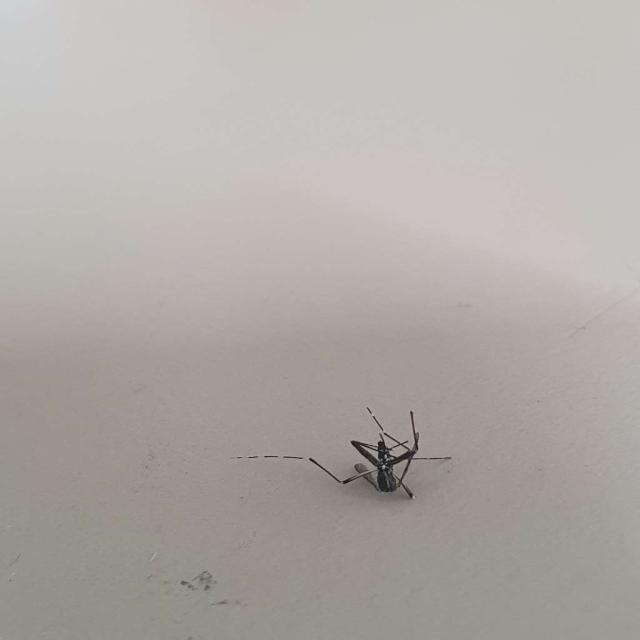albopictus: (242, 397, 456, 506)
